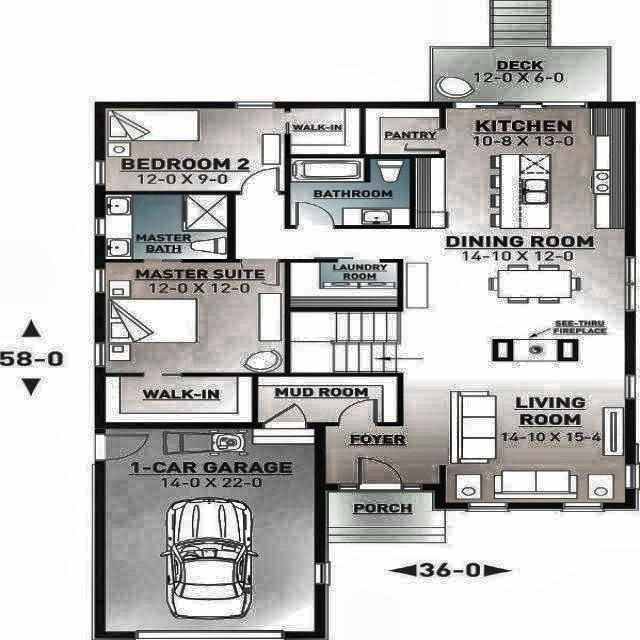room: (236, 108, 625, 502), (106, 428, 315, 631), (106, 263, 285, 372), (106, 108, 284, 191), (291, 159, 410, 225), (107, 194, 227, 259), (106, 377, 252, 422), (259, 377, 397, 422), (292, 263, 397, 306), (366, 109, 440, 153), (291, 109, 360, 153)
